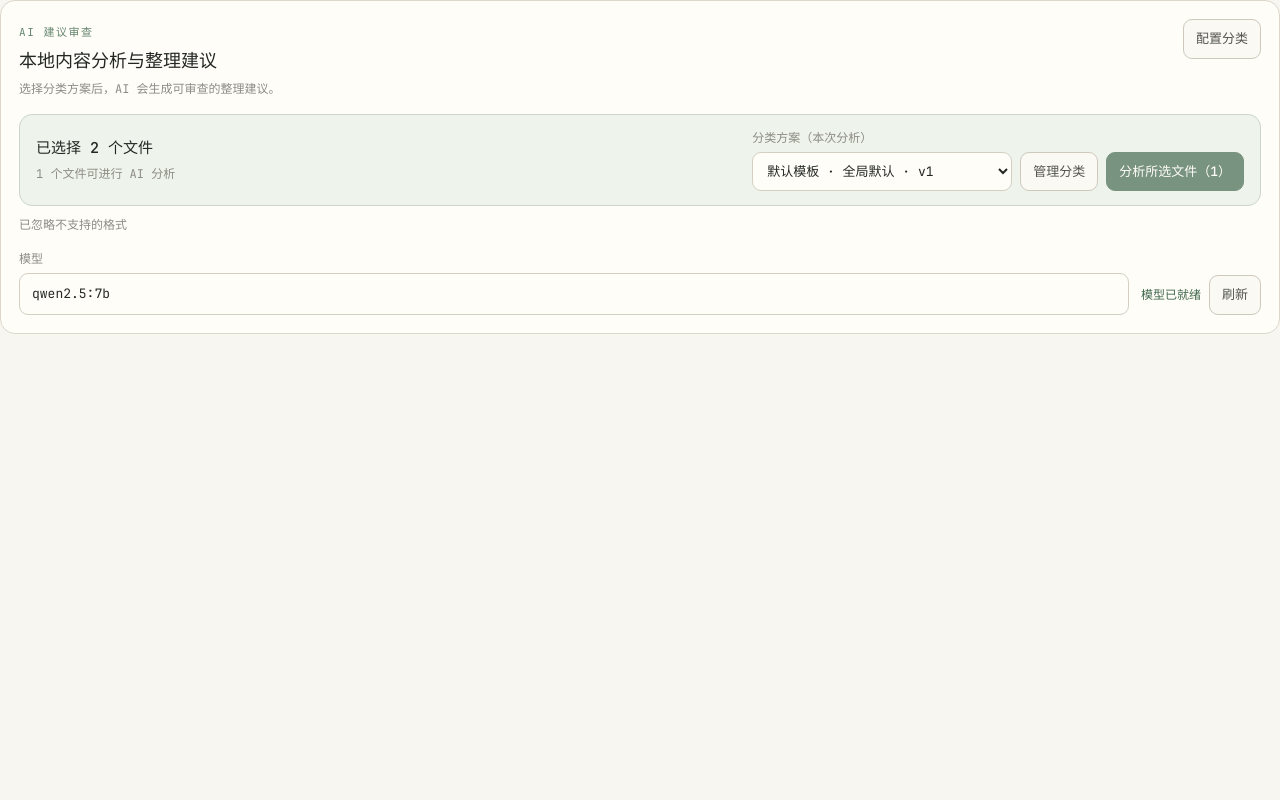
keeps a suggestion pending when phase four preview fails
This screenshot has width=1280, height=800.
expect the text "模型已就绪" is shown: met, box [1141,286,1201,304]
Click the button "分析所选文件（1）": (1175, 171) [1106,152,1244,191]
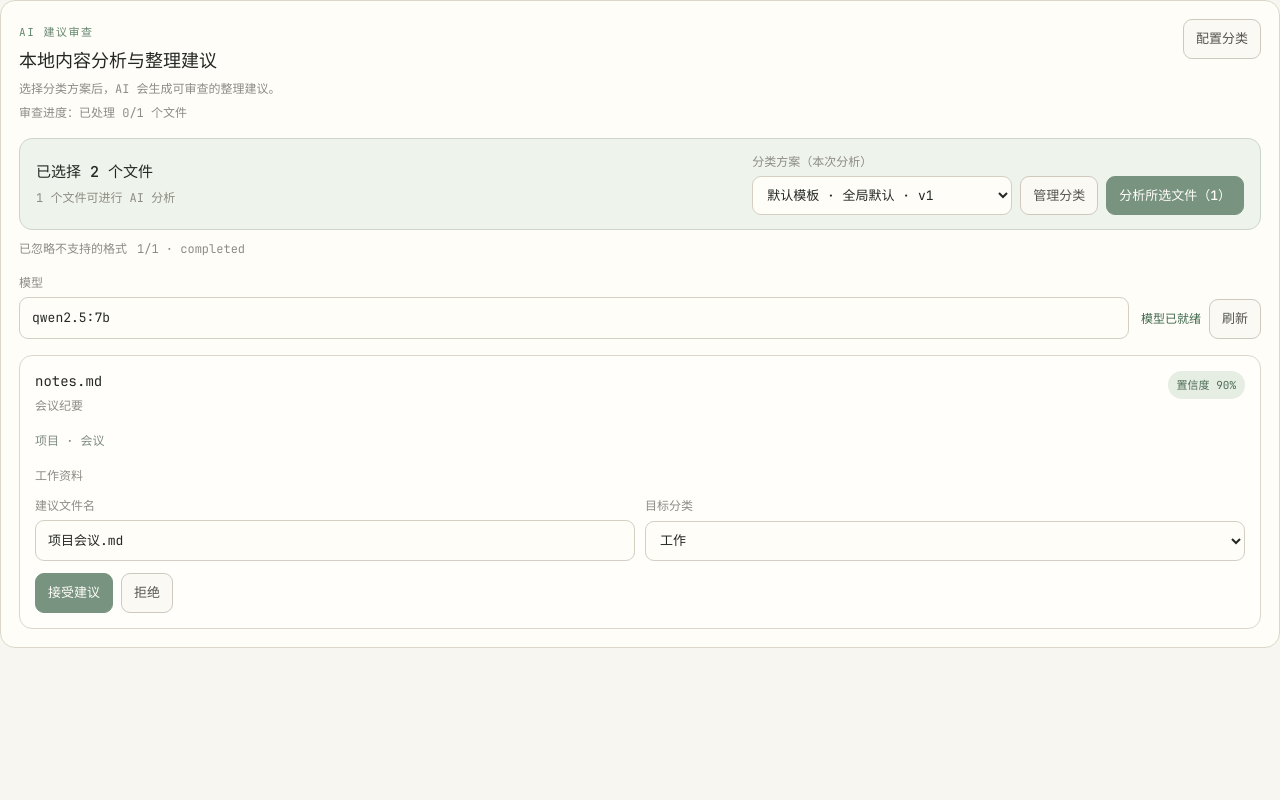
expect the text "会议纪要" is shown: met, box [35,398,83,414]
Click the button "接受建议": (74, 593) [35,573,113,612]
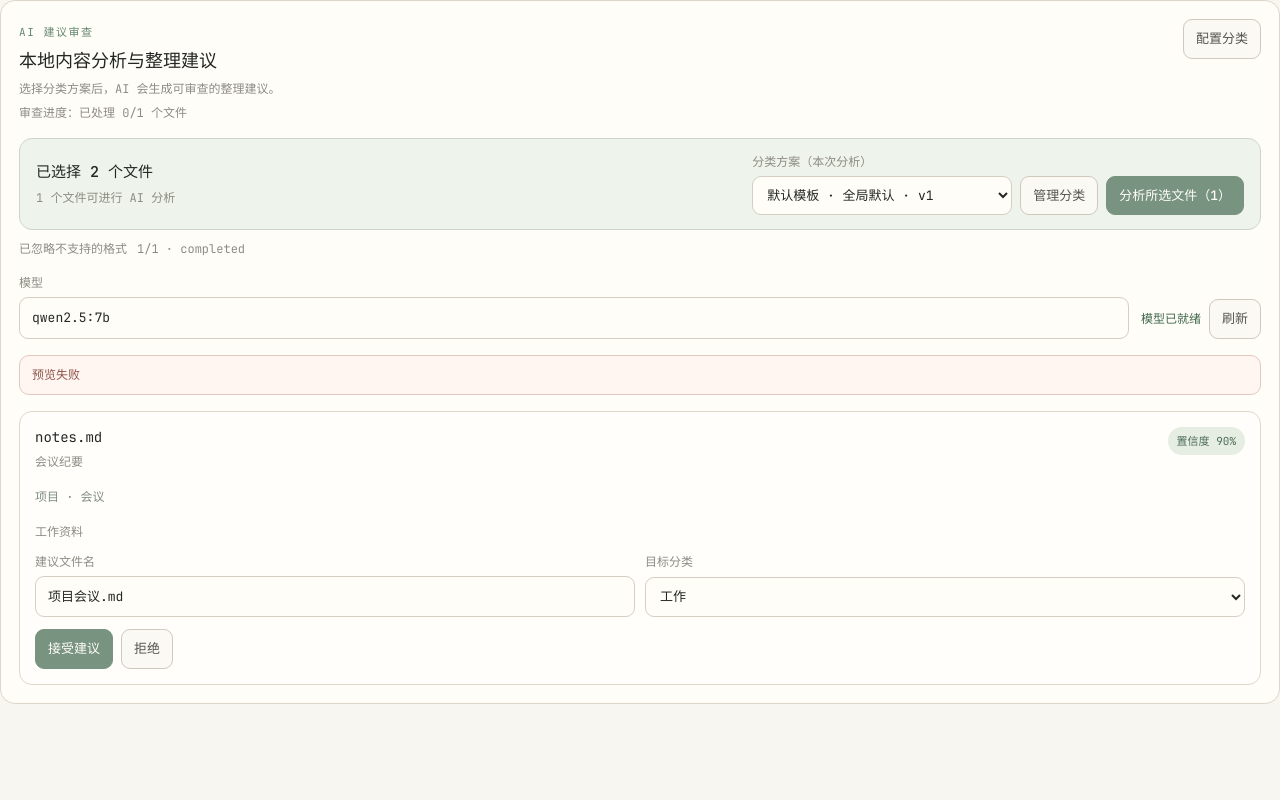
expect the button "接受建议" is shown: met, box [35,629,113,668]
expect the message "预览失败" is shown: met, box [19,354,1261,394]
